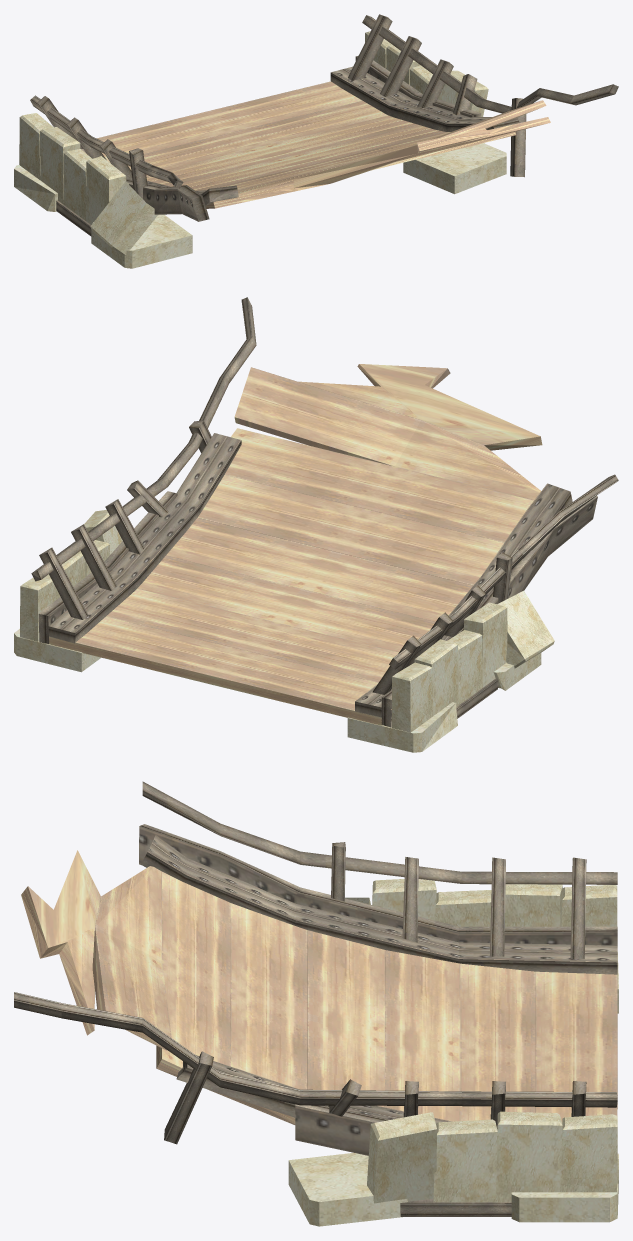
Rendered from C2SMBRIDGE13RAMP.obj.
3 renders of one model, top to bottom at view 1: azimuth 30°, elevation 25°; view 2: azimuth 150°, elevation 25°; view 3: azimuth 270°, elevation 25°, orthographic. The views are drawn at different scales.
Parts seen in each view (by area): view 1: Node 0; view 2: Node 0; view 3: Node 0.
Part boxes in pixels (x1,y1,x2,y2): Node 0: (14, 14, 618, 268); Node 0: (14, 297, 618, 752); Node 0: (14, 781, 618, 1226).
Size of the model in its own units: 19.91 by 8.03 by 19.03.
Materials: 3 (3 with a texture image).
